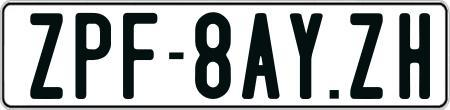8: (195, 10, 235, 97)
A: (239, 13, 282, 102)
F: (123, 10, 157, 98)
H: (397, 13, 428, 102)
P: (73, 12, 108, 102)
Y: (290, 13, 328, 104)
Z: (350, 12, 387, 98), (28, 10, 61, 97)
